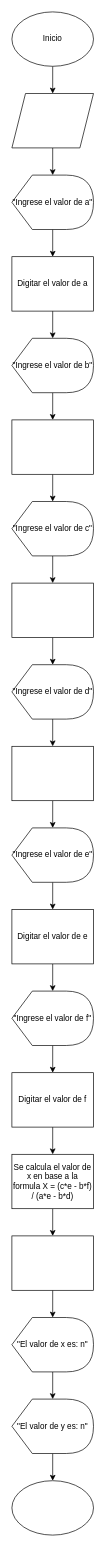
The diagram is 105 pixels wide and 1547 high, and some of its shapes have lost their labels. The shapes that lost their labels are listed below. From the top down, each one's centre as x and y in pixels, then its label:
At (x=52, y=120): "a, b, c, d, e, f".
At (x=52, y=446): "Digitar el valor de b".
At (x=52, y=610): "Digitar el valor de c".
At (x=52, y=773): "Digitar el valor de d".
At (x=52, y=1262): "Se calcula el valor de y en base a la formula Y = (a*f - c*d) / (a*e - b*d)".
At (x=52, y=1507): "Fin".
